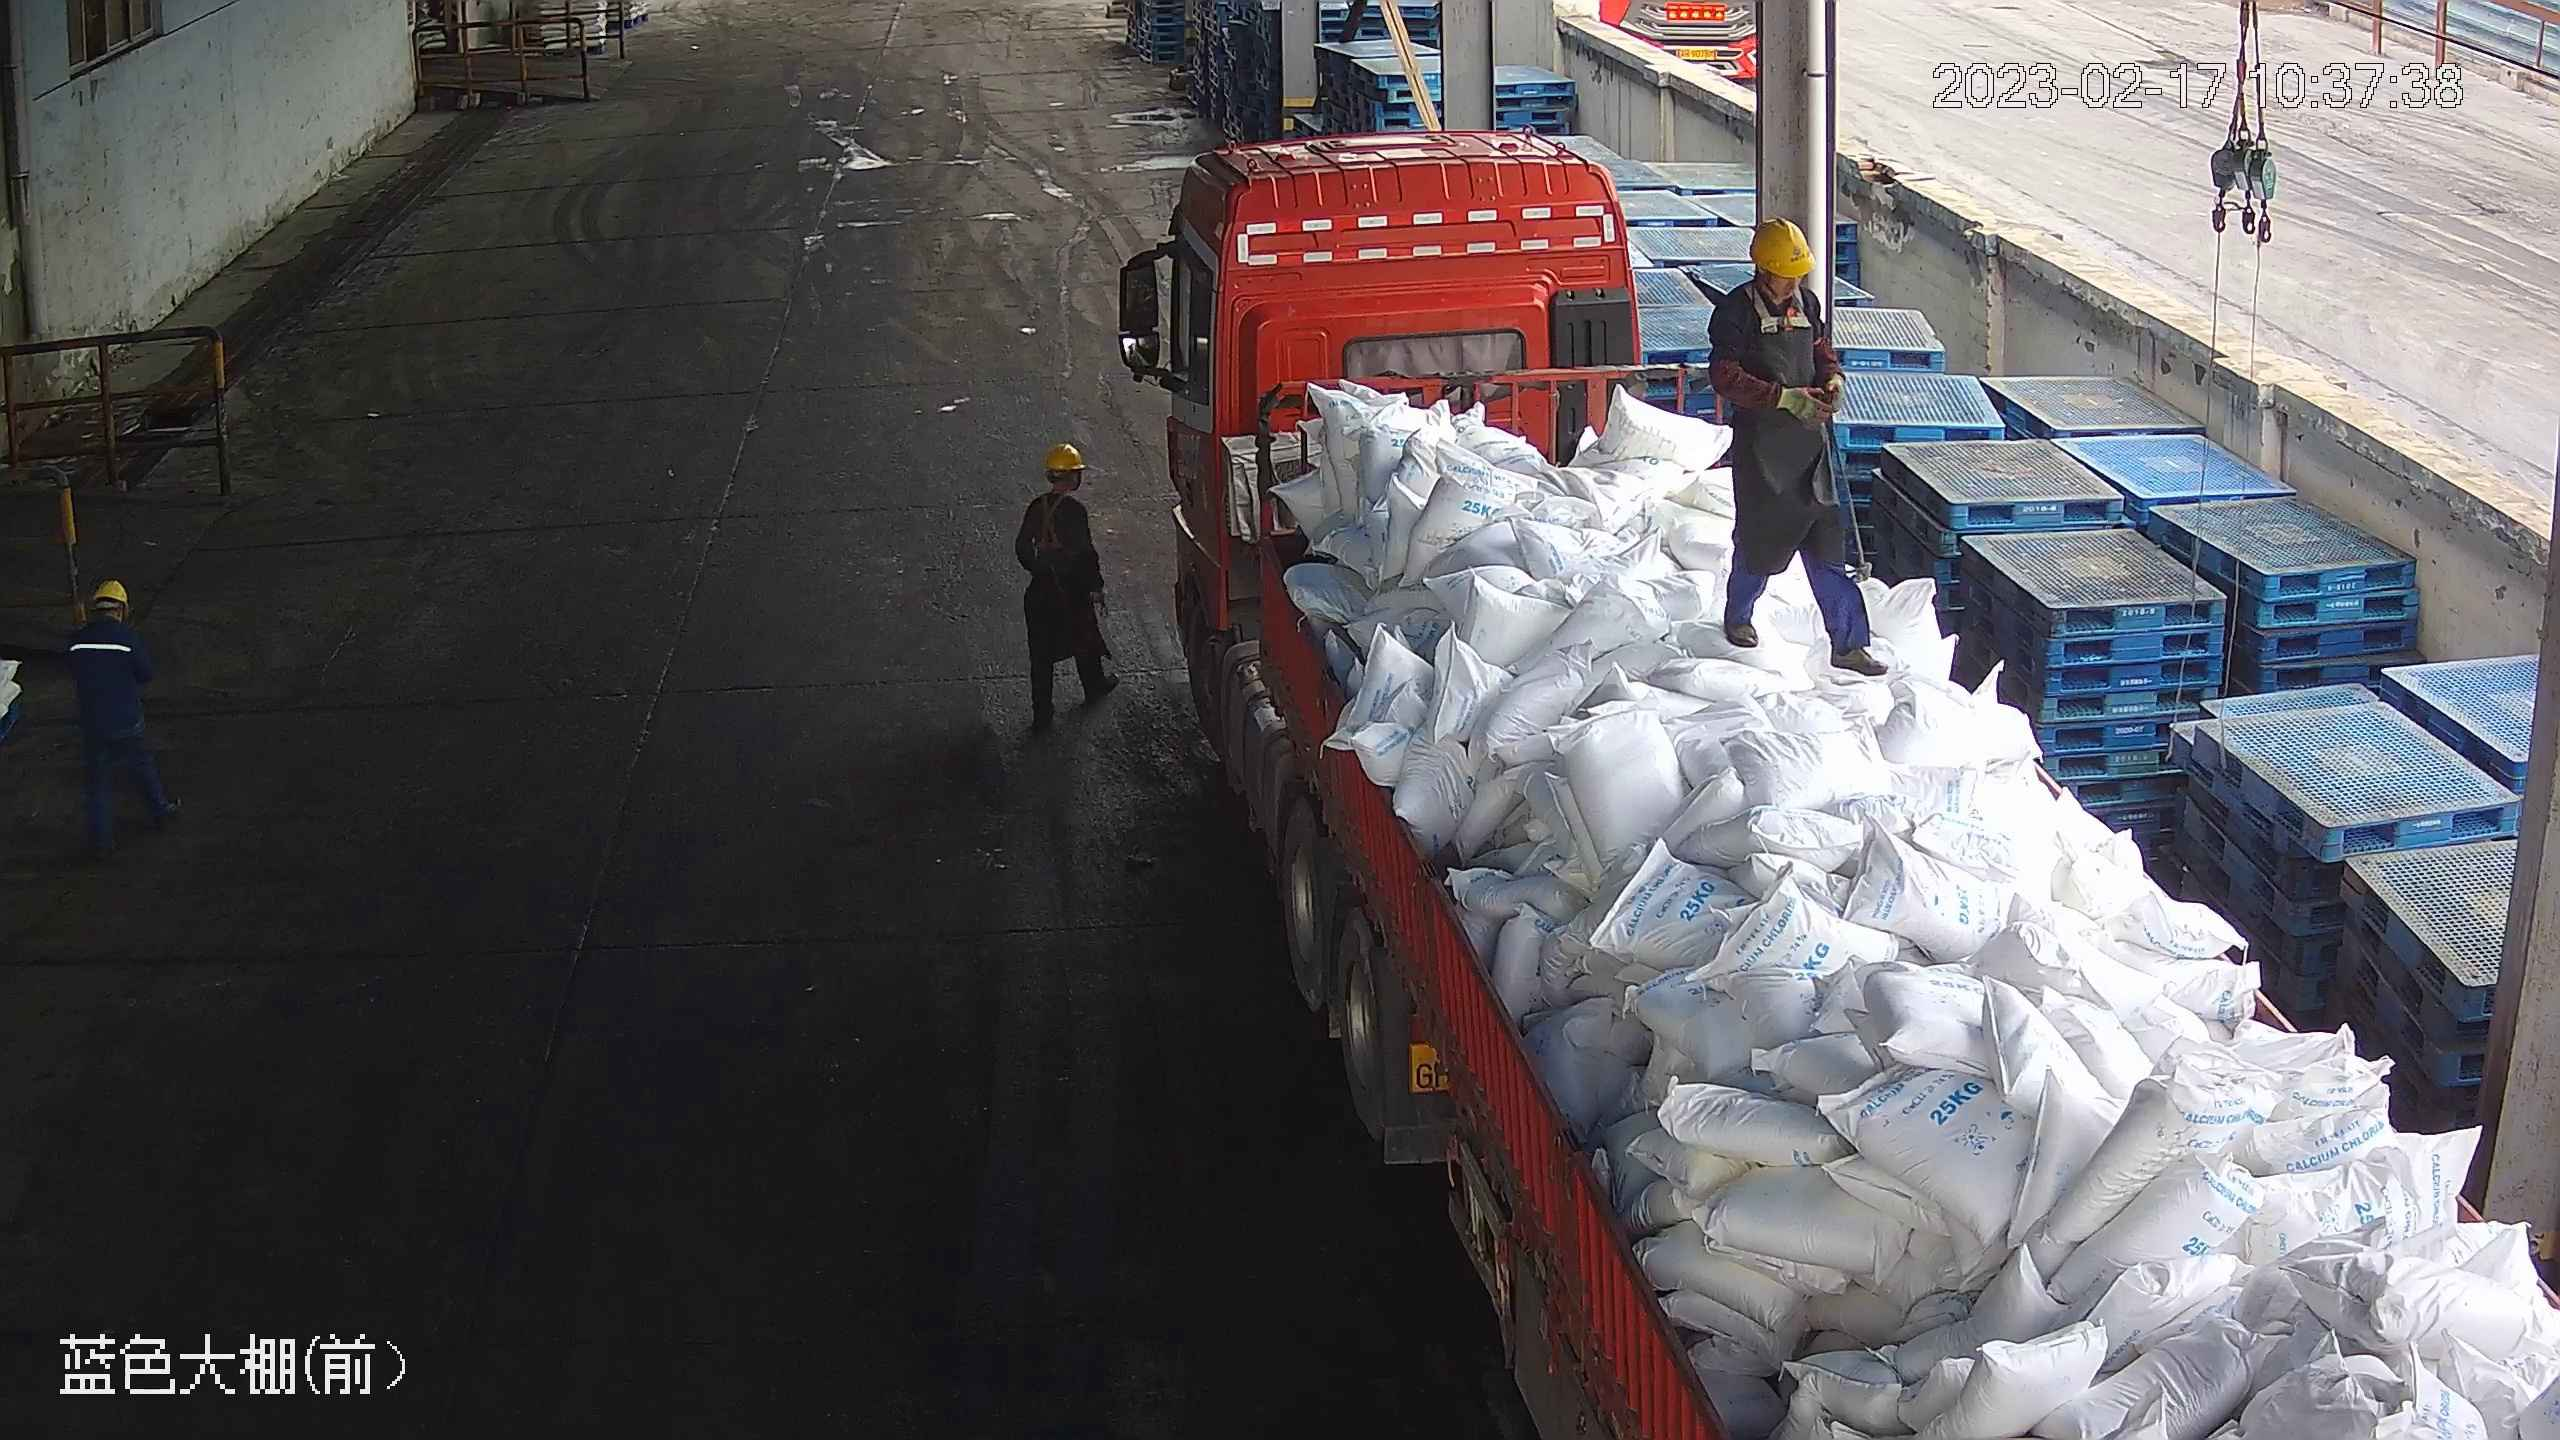belt: (1732, 288, 1822, 338), (1023, 491, 1083, 550)
head: (1717, 219, 1830, 332), (1019, 440, 1094, 532), (65, 576, 149, 657)
helmet: (1748, 216, 1817, 280), (90, 576, 134, 608), (1042, 441, 1087, 473)
people: (1704, 217, 1891, 683), (61, 576, 182, 854), (1010, 438, 1121, 735)
truck: (1124, 145, 2555, 1439)
